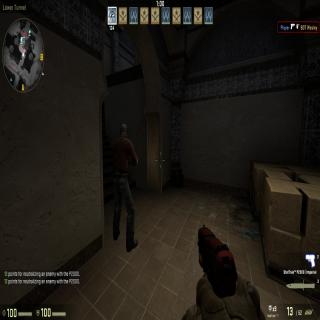T-Body: (110, 117, 139, 252)
T-Head: (117, 120, 130, 142)
